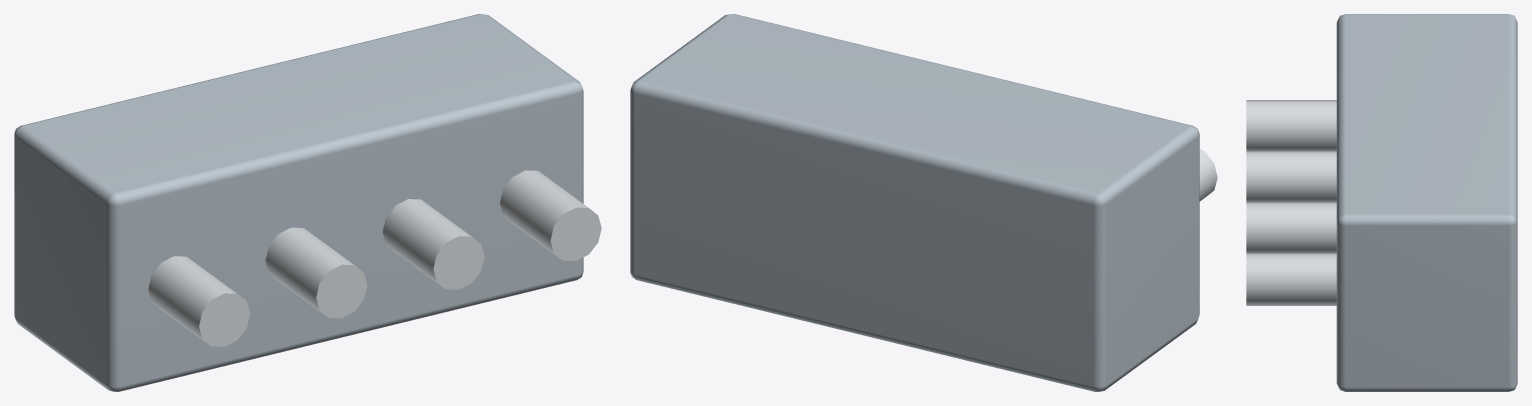
The model's file is Connection_HydraulicManifold.fbx.
3 renders of one model, left to right at view 1: azimuth 30°, elevation 25°; view 2: azimuth 150°, elevation 25°; view 3: azimuth 270°, elevation 25°, orthographic. The views are drawn at different scales.
Parts seen in each view (by area): view 1: Block, PortFitting.002, PortFitting.001, PortFitting.003, PortFitting; view 2: Block, PortFitting; view 3: Block, PortFitting.003, PortFitting, PortFitting.001, PortFitting.002.
Boxes of the visible parts, x1=… form: Block: x1=14, y1=14, x2=583, y2=391; PortFitting.002: x1=382, y1=199, x2=484, y2=289; PortFitting.001: x1=265, y1=227, x2=367, y2=318; PortFitting.003: x1=500, y1=170, x2=601, y2=261; PortFitting: x1=148, y1=256, x2=249, y2=346; Block: x1=630, y1=14, x2=1199, y2=391; PortFitting: x1=1199, y1=149, x2=1217, y2=201; Block: x1=1336, y1=14, x2=1517, y2=391; PortFitting.003: x1=1246, y1=253, x2=1336, y2=305; PortFitting: x1=1246, y1=100, x2=1336, y2=151; PortFitting.001: x1=1246, y1=151, x2=1336, y2=202; PortFitting.002: x1=1246, y1=202, x2=1336, y2=253.
Size of the model in its own units: 0.65 by 0.26 by 0.36.
